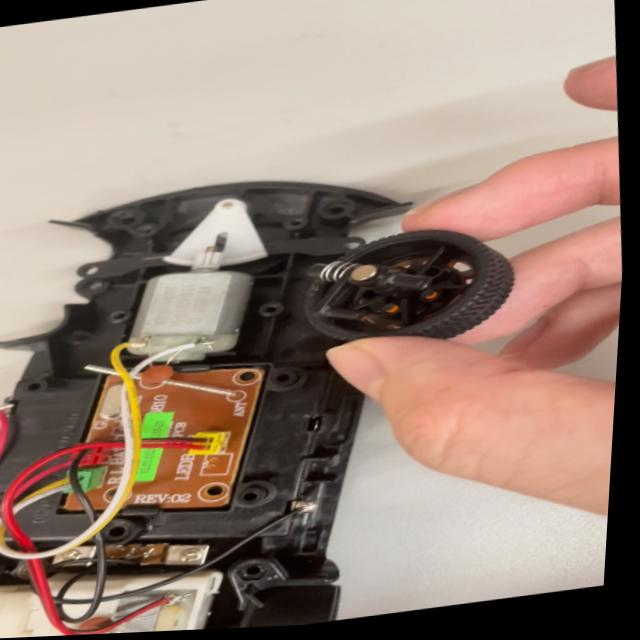motor: (113, 232, 275, 379)
wheel: (292, 213, 513, 360)
